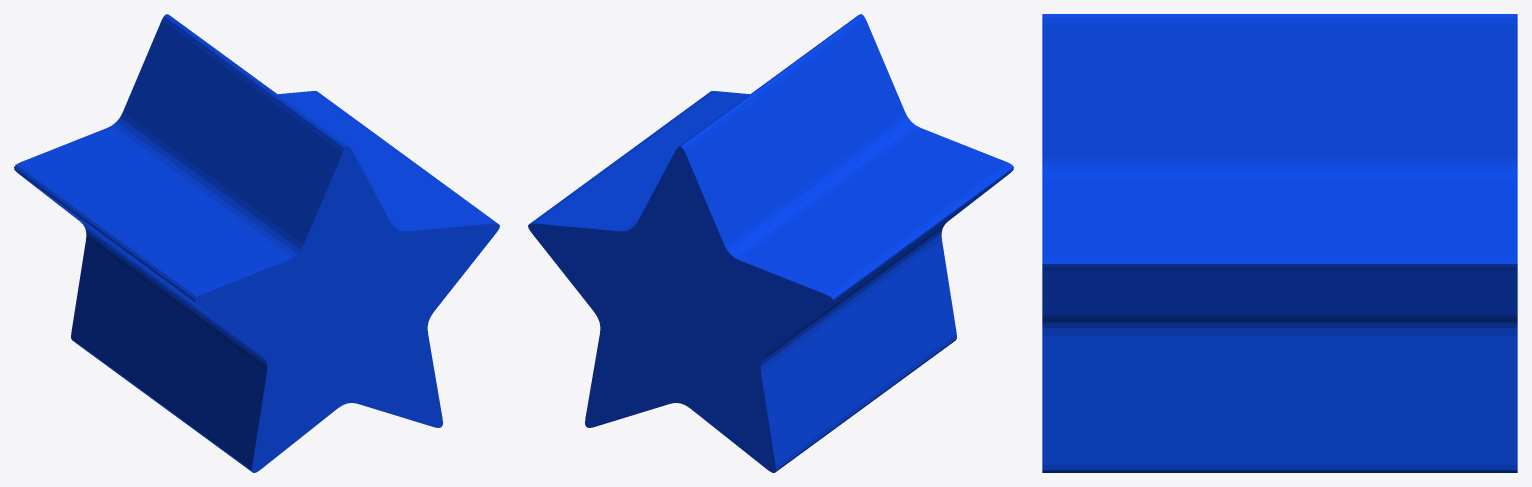
The model's file is block_blue_star_prism.obj.
3 renders of one model, left to right at view 1: azimuth 30°, elevation 25°; view 2: azimuth 150°, elevation 25°; view 3: azimuth 270°, elevation 25°, orthographic. The views are drawn at different scales.
Parts seen in each view (by area): view 1: block_blue_star_prism; view 2: block_blue_star_prism; view 3: block_blue_star_prism.
Part boxes in pixels (<box>): block_blue_star_prism: <box>14,14,499,472</box>; block_blue_star_prism: <box>528,14,1013,472</box>; block_blue_star_prism: <box>1042,14,1517,472</box>.
Bounding box in the file's own units: 0.0389 × 0.0371 × 0.04.
